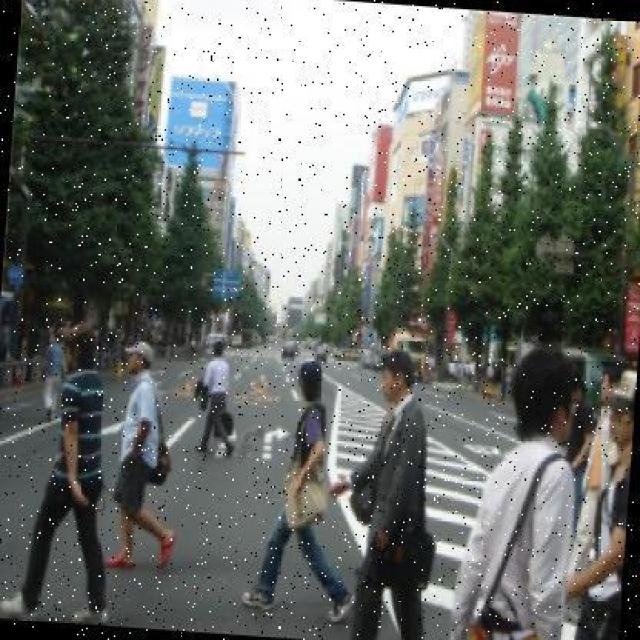Person: (326, 348, 449, 638), (10, 326, 130, 623), (246, 358, 368, 624), (105, 340, 188, 577), (194, 338, 248, 454)
